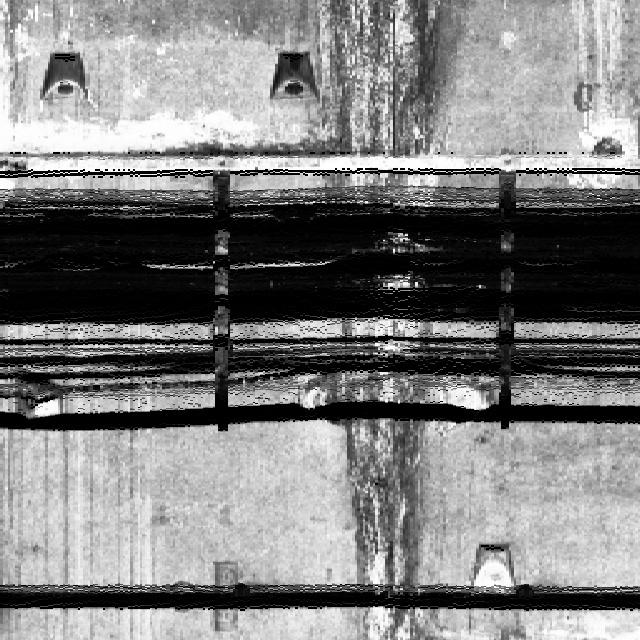leakage: (312, 0, 448, 639)
